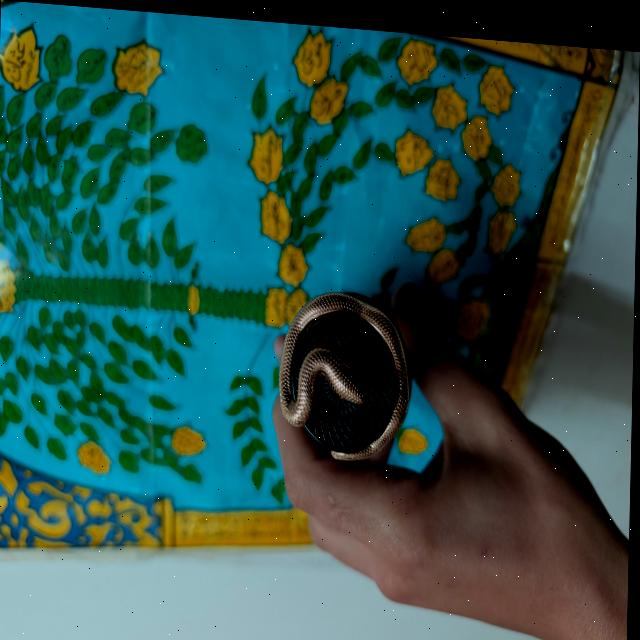Teriaq-Intense: (283, 275, 416, 451)
